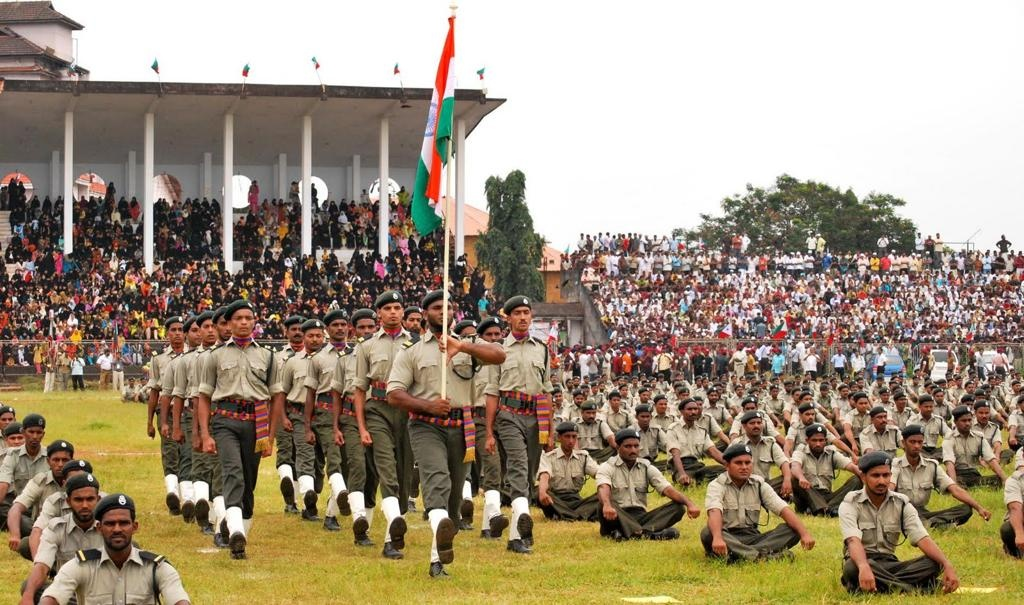human_face: (102, 509, 132, 549), (70, 484, 96, 520), (866, 463, 890, 495), (231, 306, 255, 336), (428, 298, 452, 328), (728, 452, 752, 478), (380, 300, 402, 324), (24, 422, 44, 448), (510, 304, 530, 330), (50, 450, 70, 475), (216, 312, 234, 338), (356, 316, 376, 339), (68, 470, 88, 492), (328, 318, 348, 340), (482, 325, 502, 347), (619, 438, 639, 460), (201, 320, 219, 342), (304, 328, 322, 350), (905, 433, 923, 455), (7, 430, 25, 450), (286, 324, 304, 344), (168, 322, 184, 342), (560, 431, 576, 450), (746, 415, 762, 434), (808, 433, 824, 451), (189, 323, 203, 343), (958, 411, 972, 431), (976, 404, 990, 424), (406, 313, 420, 332), (683, 401, 697, 419), (873, 411, 887, 427), (2, 412, 14, 430), (802, 406, 814, 424), (582, 406, 596, 421), (920, 399, 932, 416), (637, 412, 651, 426), (856, 397, 868, 412), (656, 398, 666, 412), (610, 396, 620, 408), (744, 402, 754, 414), (708, 391, 718, 401), (896, 396, 906, 406), (802, 394, 812, 404), (963, 401, 973, 411), (552, 393, 562, 403), (694, 400, 702, 412), (924, 382, 932, 393), (574, 394, 582, 404), (640, 391, 648, 401), (714, 385, 722, 395), (841, 387, 849, 397), (793, 390, 801, 400), (934, 391, 942, 401), (976, 394, 984, 404), (848, 396, 856, 406), (680, 391, 688, 400), (881, 392, 889, 400), (674, 386, 682, 394), (770, 389, 778, 397), (784, 384, 792, 392), (850, 384, 858, 392), (894, 388, 902, 396), (750, 392, 758, 400), (954, 379, 962, 387), (1012, 383, 1020, 391), (580, 388, 588, 396), (620, 386, 626, 396), (736, 386, 742, 396), (984, 388, 990, 398), (877, 378, 883, 386), (894, 376, 900, 384), (966, 384, 972, 392), (939, 382, 945, 390), (989, 378, 995, 386), (591, 384, 597, 392), (599, 382, 605, 390), (573, 378, 579, 386), (760, 380, 766, 388), (702, 379, 708, 386), (778, 373, 784, 380), (632, 378, 638, 384), (821, 388, 827, 394), (750, 378, 756, 384), (914, 370, 920, 376), (994, 378, 1000, 384), (566, 381, 572, 387), (794, 376, 800, 381), (946, 374, 952, 379), (618, 377, 622, 384), (858, 379, 862, 386), (832, 379, 836, 385), (842, 378, 848, 382), (913, 378, 919, 382), (756, 384, 760, 390), (772, 380, 778, 384), (970, 373, 974, 379), (650, 380, 656, 384), (623, 378, 627, 384), (696, 379, 700, 385), (713, 378, 717, 384), (730, 378, 736, 382), (741, 378, 745, 384), (550, 376, 556, 380), (806, 374, 810, 379), (676, 374, 680, 379), (1016, 374, 1020, 378), (1010, 370, 1014, 374), (584, 378, 588, 382), (613, 380, 617, 384), (640, 376, 644, 380), (658, 377, 662, 381), (721, 376, 725, 380), (745, 378, 749, 382), (602, 376, 604, 380)
